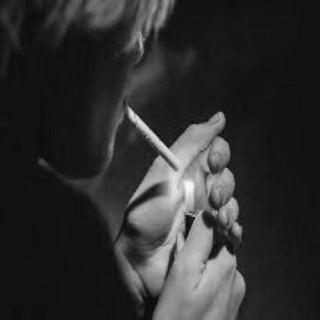Fire: (182, 168, 198, 218)
